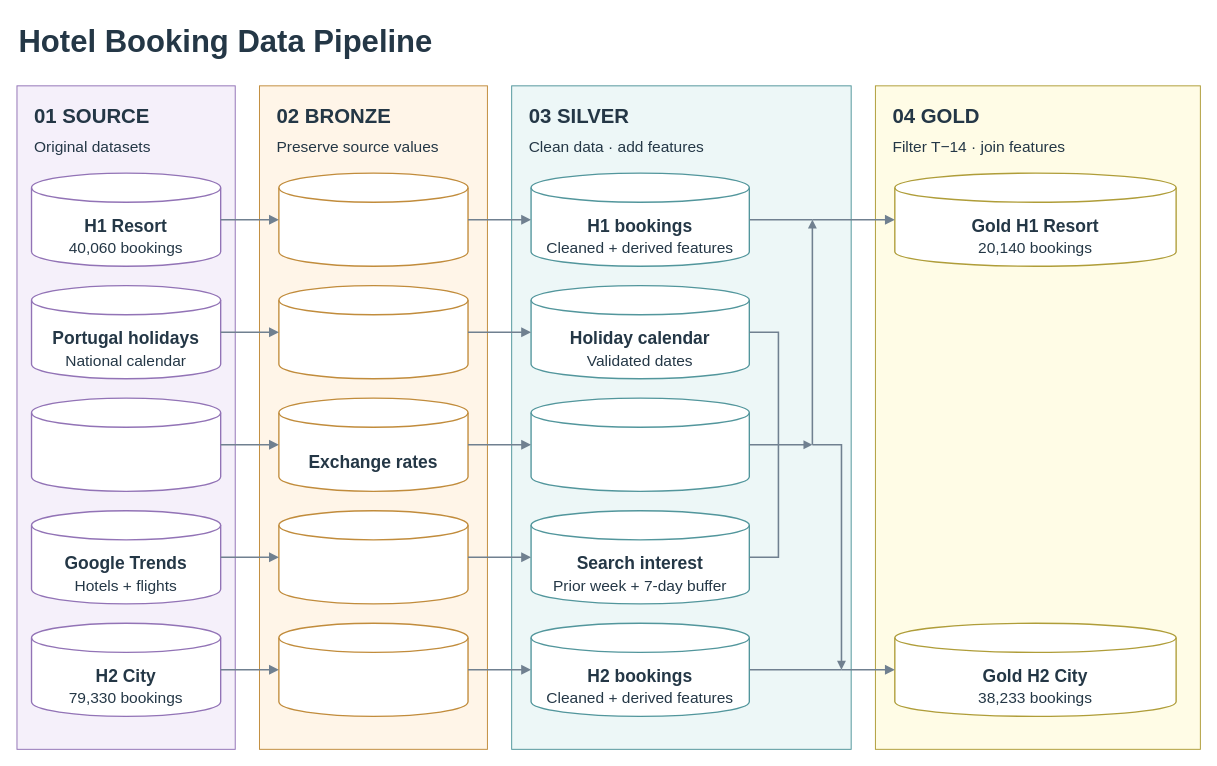
This 1217x766 diagram has some shape labels left out. The shapes that lost their labels are listed below. From the top down, each one's centre as x and y in pixels, then its label:
At pixel 373 219: "H1 bookings".
At pixel 373 332: "Holiday calendar".
At pixel 125 444: "ECB exchange rates USD per EUR".
At pixel 640 444: "Exchange rates Available before T−14".
At pixel 373 557: "Search interest Fixed weekly export".
At pixel 373 669: "H2 bookings".
